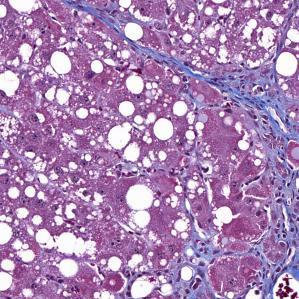fibrosis: (195, 72, 299, 154), (238, 182, 299, 292)
